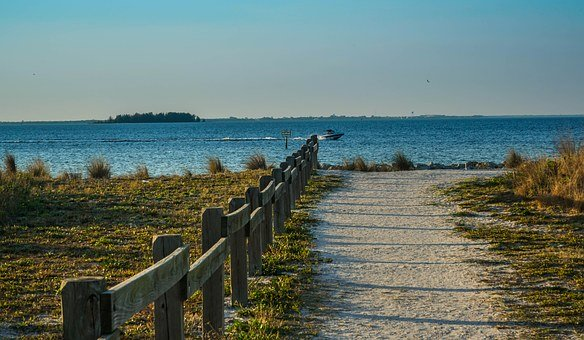field: (6, 165, 580, 340)
sea: (1, 113, 573, 164)
sky: (1, 5, 578, 110)
